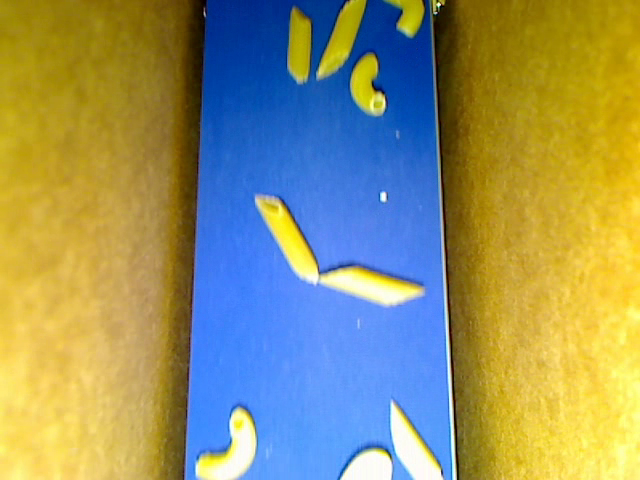elbow: (194, 404, 257, 479), (349, 52, 386, 116), (383, 1, 424, 39)
penne: (255, 193, 320, 284), (319, 263, 426, 308), (389, 398, 443, 478), (315, 1, 366, 81), (286, 4, 311, 86)
